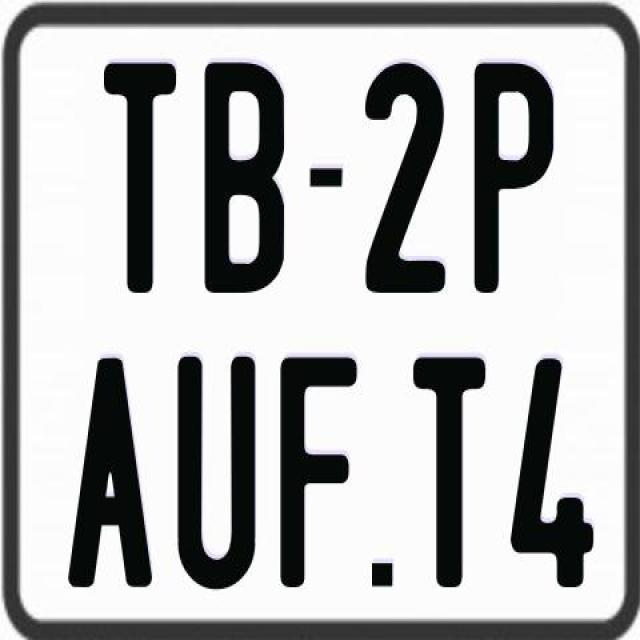2: (362, 59, 442, 298)
4: (509, 357, 596, 587)
A: (65, 358, 156, 596)
B: (202, 61, 288, 292)
F: (276, 356, 362, 588)
P: (474, 58, 560, 296)
T: (410, 352, 490, 592), (104, 60, 184, 298)
U: (174, 355, 260, 595)
